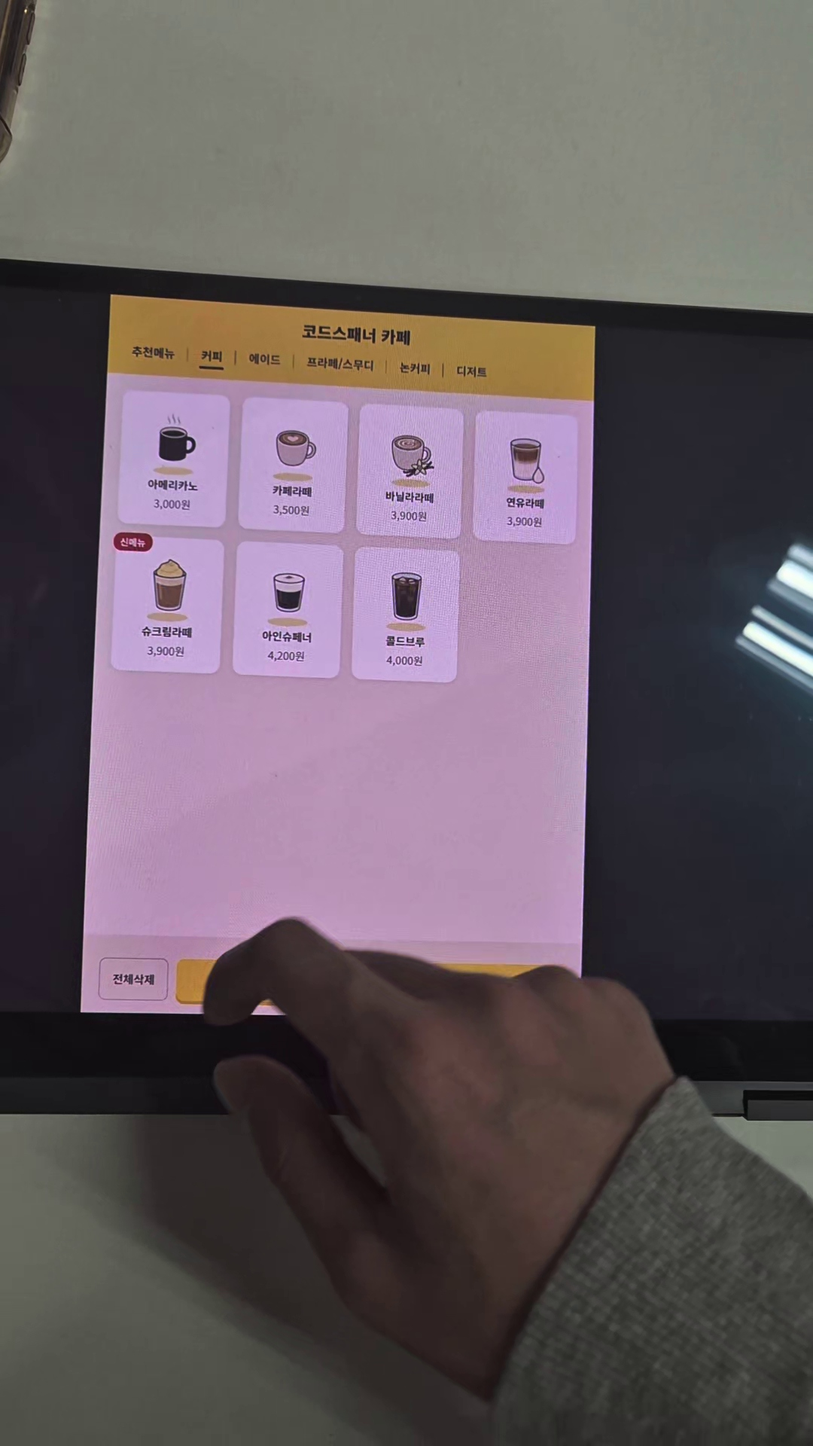action_button: (99, 958, 168, 1000)
category_tab: (304, 355, 375, 375), (129, 343, 179, 363), (246, 351, 281, 368), (398, 360, 432, 377), (454, 364, 489, 380), (199, 348, 226, 365)
menu_back: (110, 532, 224, 674), (118, 390, 230, 528), (232, 541, 343, 679), (238, 398, 349, 534), (355, 404, 464, 539), (352, 546, 459, 683), (473, 411, 578, 545)
menu_name: (139, 623, 194, 641), (260, 628, 313, 645), (384, 490, 435, 506), (146, 478, 199, 493), (383, 633, 426, 649), (505, 496, 546, 511), (271, 484, 313, 498)
menu_price: (266, 648, 306, 664), (384, 653, 424, 669), (151, 497, 191, 512), (389, 509, 428, 524), (145, 644, 185, 658), (505, 515, 543, 529), (272, 504, 310, 517)
